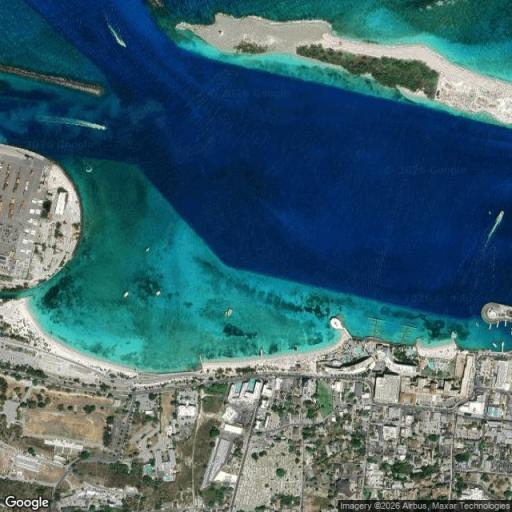ship: (36, 116, 106, 130), (486, 212, 503, 243), (108, 24, 126, 47), (496, 212, 503, 223), (225, 308, 232, 317), (86, 164, 92, 172), (86, 166, 91, 172), (124, 292, 128, 298), (492, 343, 497, 347), (156, 290, 160, 295), (501, 342, 503, 352), (145, 247, 149, 251), (476, 322, 479, 327), (295, 346, 298, 351), (489, 324, 492, 329)
